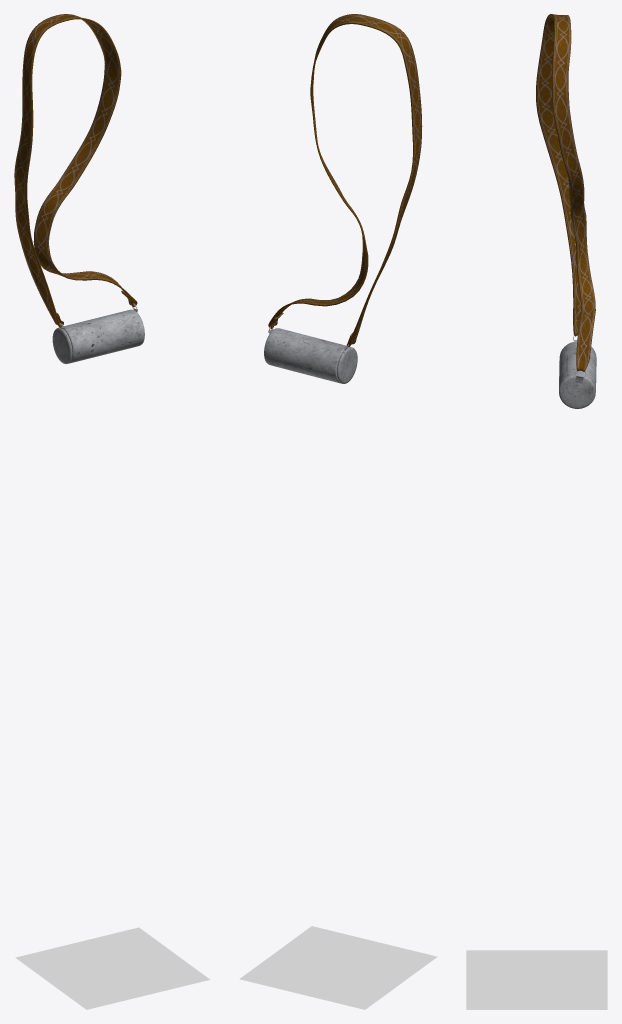
File: baiaca.glb
3 renders of one model, left to right at view 1: azimuth 30°, elevation 25°; view 2: azimuth 150°, elevation 25°; view 3: azimuth 270°, elevation 25°, orthographic. The views are drawn at different scales.
Parts seen in each view (by area): view 1: PortaTreco-EX, Plane; view 2: Plane, PortaTreco-EX; view 3: PortaTreco-EX, Plane.
Part boxes in pixels (x1,y1,x2,y2): PortaTreco-EX: (14, 14, 144, 363); Plane: (15, 927, 210, 1009); Plane: (239, 926, 437, 1009); PortaTreco-EX: (264, 14, 422, 383); PortaTreco-EX: (536, 14, 596, 408); Plane: (466, 950, 607, 1009).
Size of the model in its own units: 0.238 by 1.47 by 0.2.
Materials: 1 (1 with a texture image).
